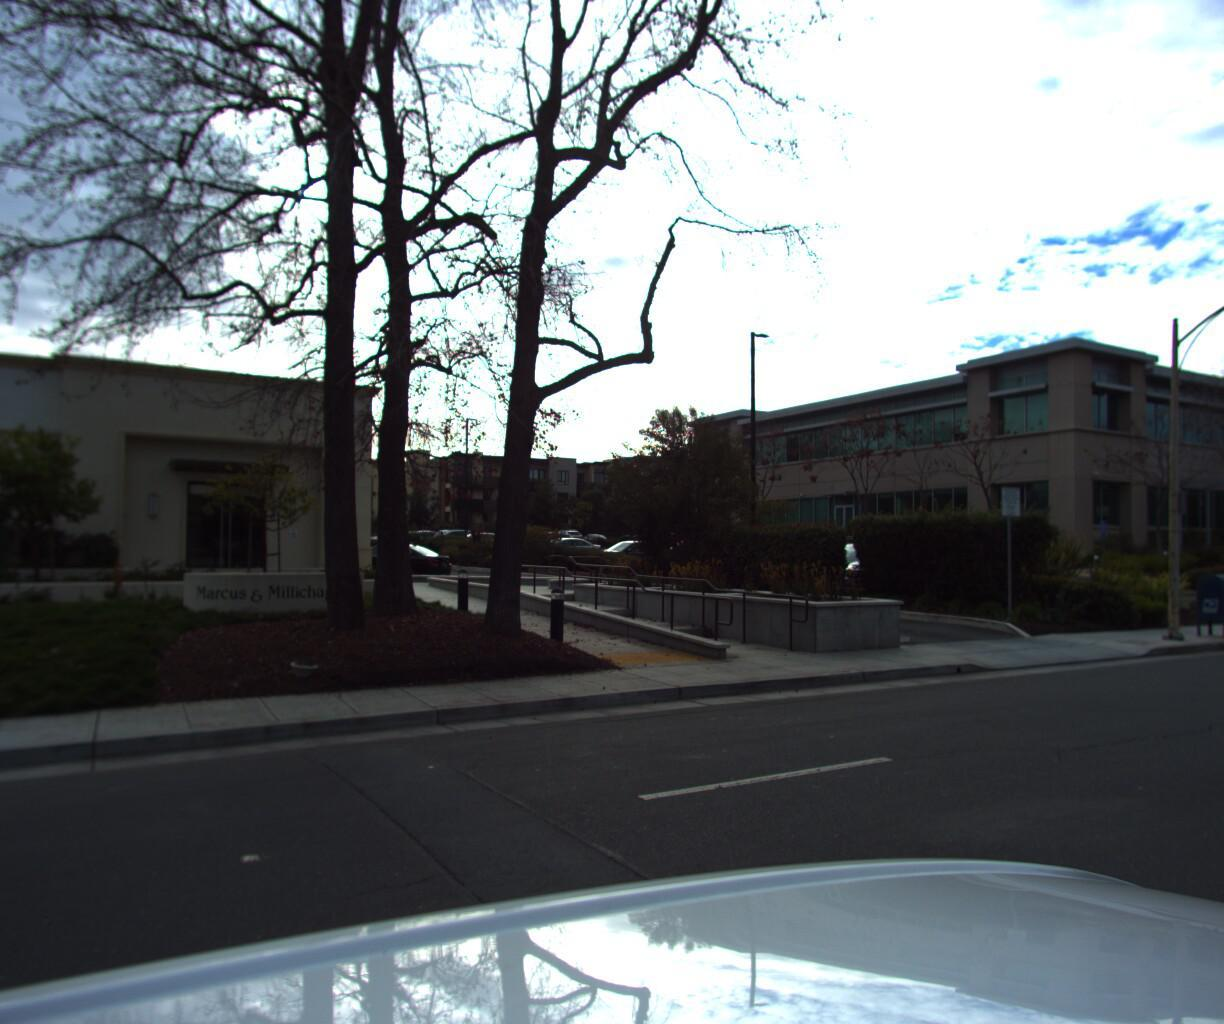car: (833, 540, 988, 592)
